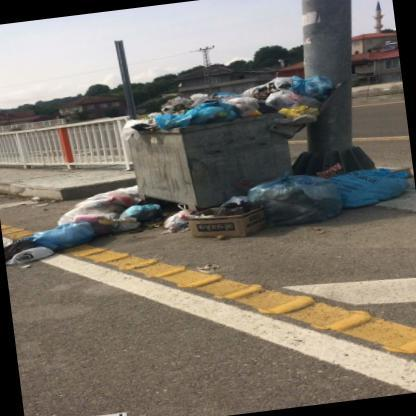Garbage: (128, 66, 331, 128), (5, 216, 112, 266), (59, 182, 158, 232), (174, 199, 264, 253), (311, 158, 402, 211), (245, 170, 328, 228), (162, 100, 233, 127), (290, 70, 341, 100), (244, 73, 290, 100), (223, 89, 264, 112), (278, 103, 327, 122), (180, 86, 216, 108), (156, 97, 197, 111)
